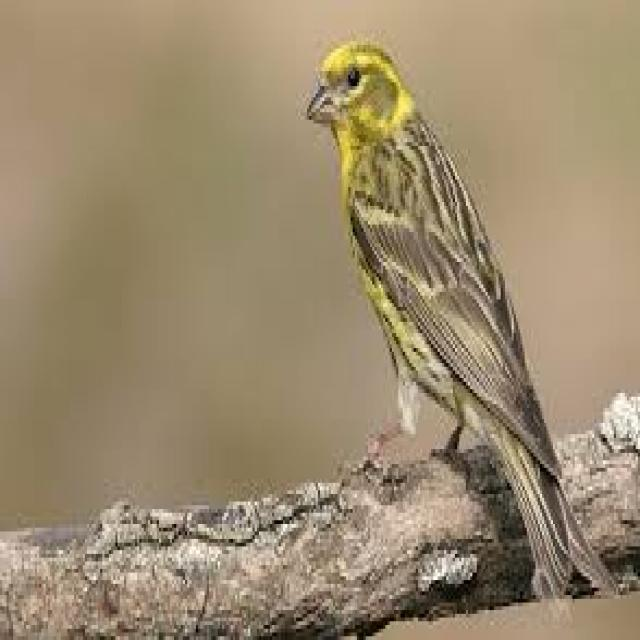bird: (125, 11, 626, 603)
